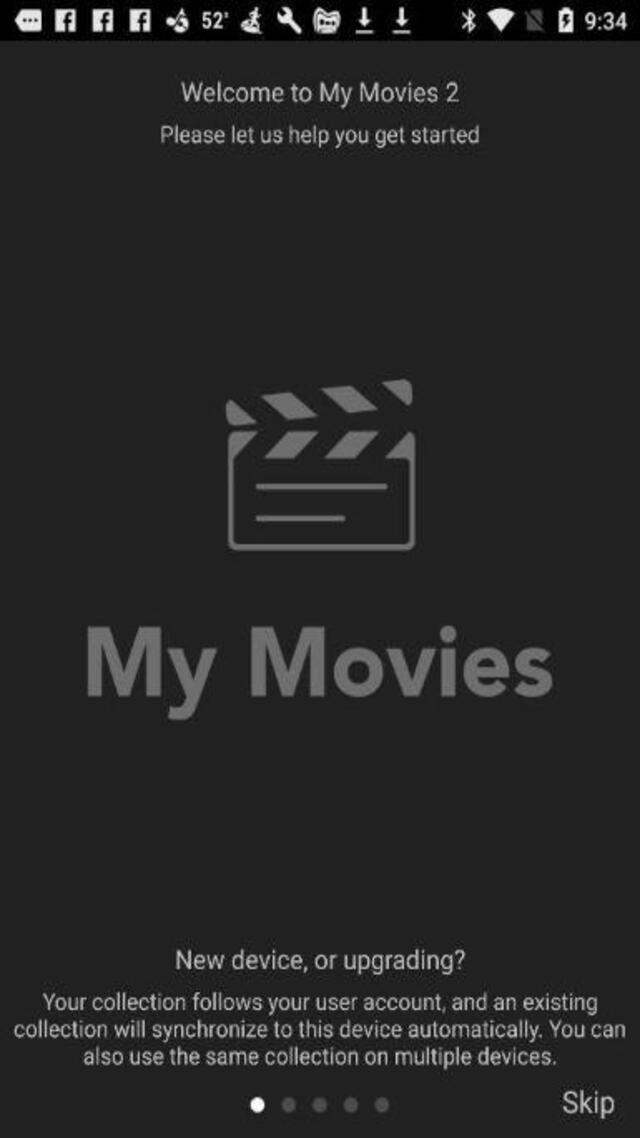Image: (224, 378, 414, 550)
Text: (79, 623, 558, 719), (10, 1020, 630, 1046), (35, 990, 602, 1018), (78, 1048, 564, 1072), (172, 946, 465, 980), (160, 124, 478, 151), (180, 80, 458, 108), (562, 1086, 615, 1118)
